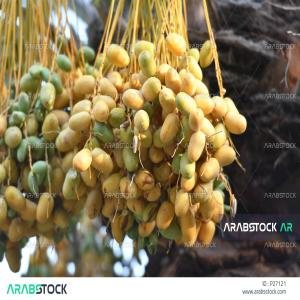palm tree: (1, 2, 246, 275)
